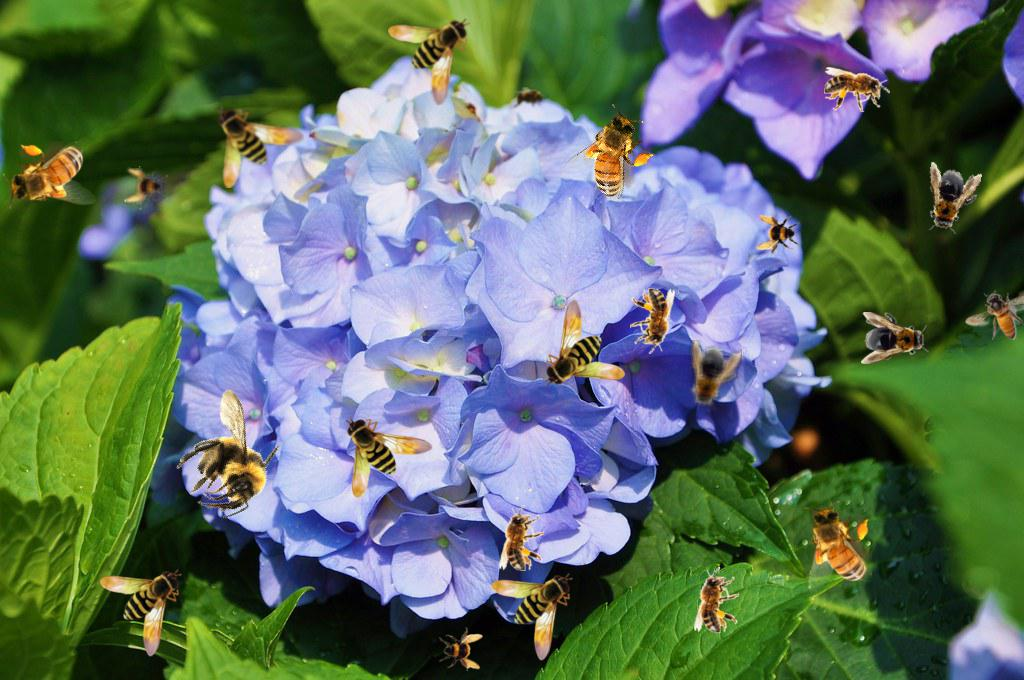Bee: (154, 377, 303, 530), (555, 99, 669, 214), (345, 416, 433, 498), (491, 573, 573, 661), (388, 18, 470, 106), (100, 569, 182, 657), (216, 106, 304, 188), (543, 299, 625, 387), (3, 141, 96, 209), (804, 501, 872, 594), (917, 161, 983, 239), (678, 338, 744, 416), (861, 312, 929, 364), (694, 567, 739, 633), (824, 67, 890, 112), (630, 288, 675, 354), (499, 505, 544, 571), (965, 290, 1024, 340), (439, 627, 483, 671), (756, 213, 800, 257), (124, 166, 168, 210), (510, 87, 550, 109)
